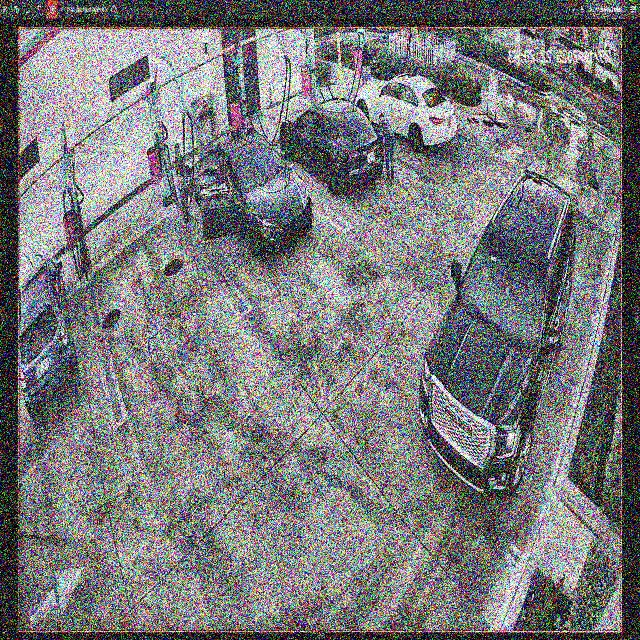Car: (419, 171, 576, 494), (187, 126, 313, 263), (280, 99, 380, 193), (354, 76, 456, 146)
